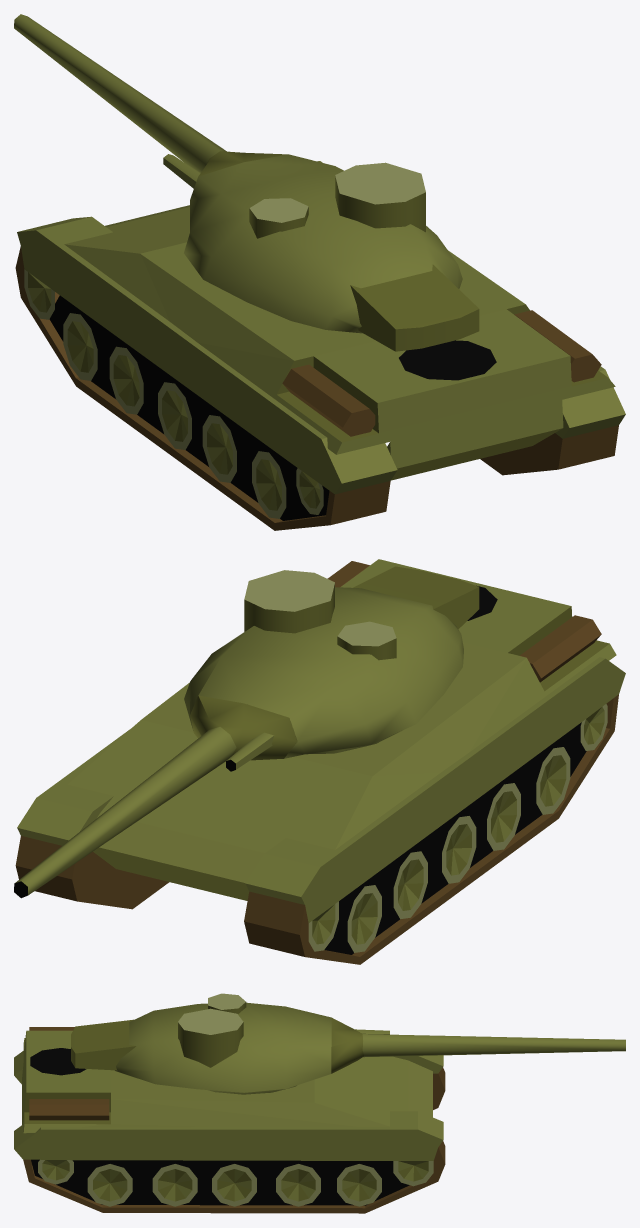
Rendered from guardian.glb.
The picture shows the model from 3 angles, top to bottom: view 1: azimuth 30°, elevation 25°; view 2: azimuth 150°, elevation 25°; view 3: azimuth 270°, elevation 25°; orthographic projection. The views are drawn at different scales.
Parts seen in each view (by area): view 1: hull.002, ysflight_turret.002, barrel; view 2: hull.002, ysflight_turret.002, barrel; view 3: hull.002, ysflight_turret.002, barrel.
Boxes of the visible parts, left/top/right/bottom form: hull.002: left=15, top=161, right=625, bottom=530; ysflight_turret.002: left=184, top=154, right=479, bottom=351; barrel: left=14, top=14, right=288, bottom=188; hull.002: left=15, top=559, right=625, bottom=964; ysflight_turret.002: left=184, top=566, right=479, bottom=758; barrel: left=14, top=695, right=297, bottom=898; hull.002: left=14, top=1027, right=445, bottom=1213; ysflight_turret.002: left=71, top=993, right=331, bottom=1094; barrel: left=331, top=1018, right=625, bottom=1073.
Bounding box in the file's own units: 0.3545 × 0.2892 × 1.
